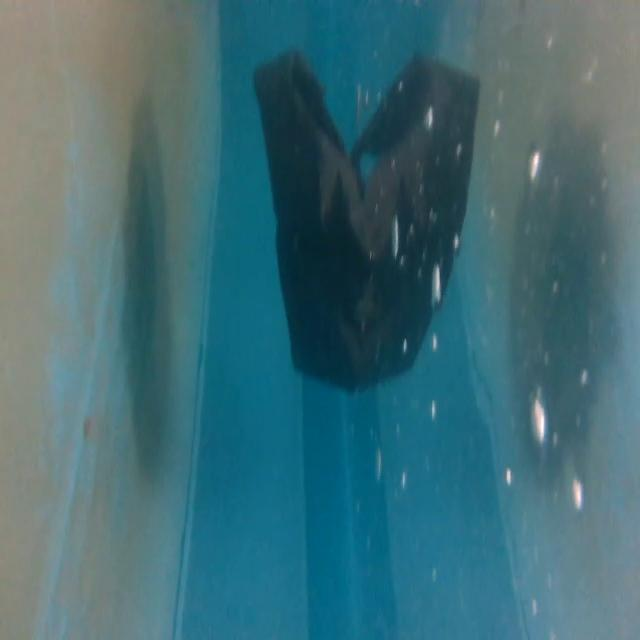plastic bags: (248, 49, 482, 400)
